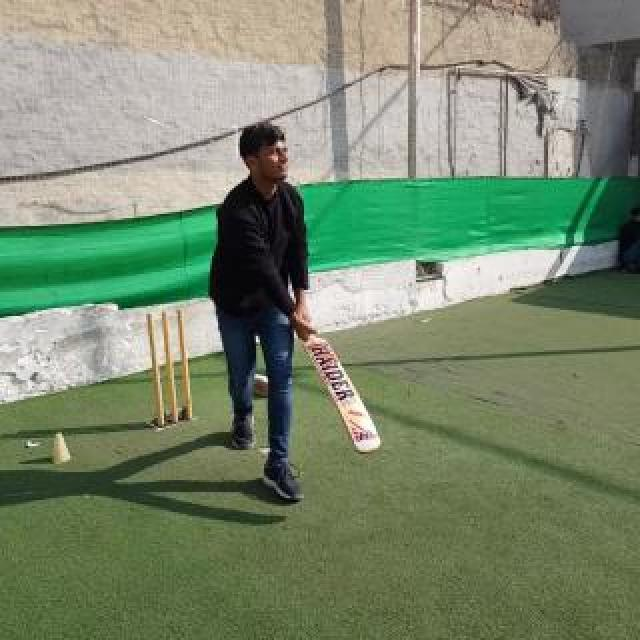bat: (290, 316, 380, 454)
